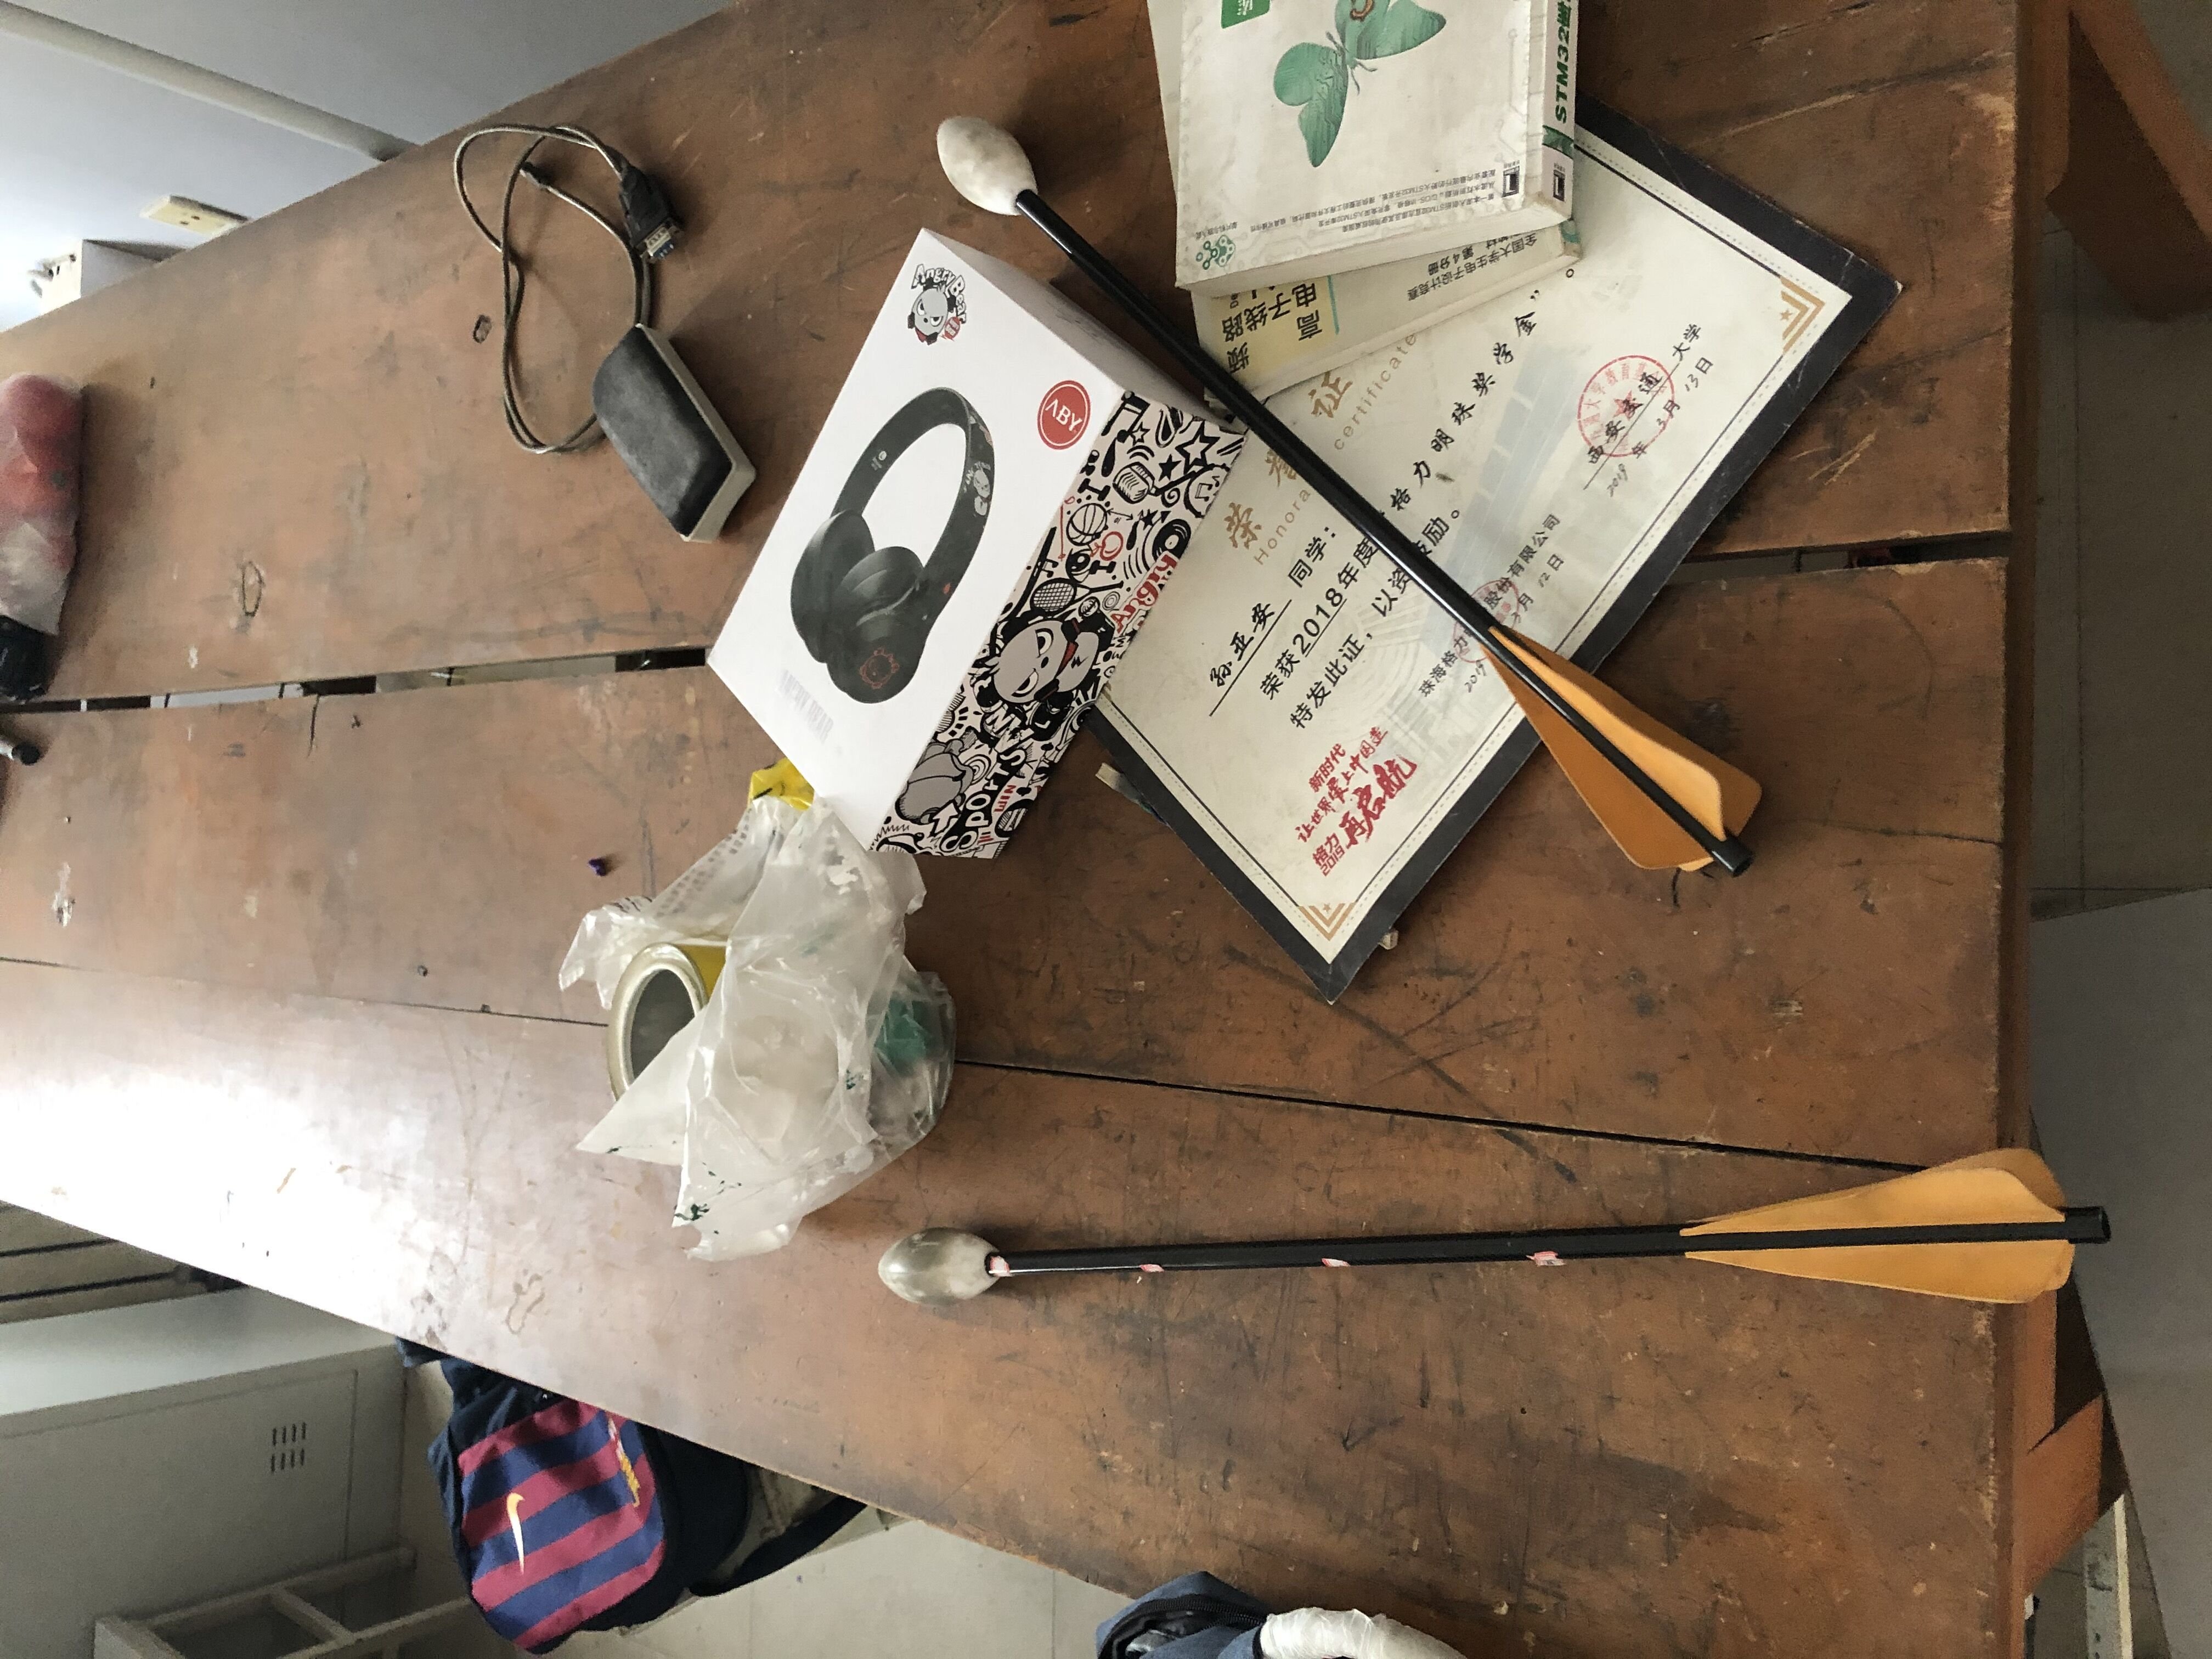arrow: (935, 110, 1766, 873), (871, 1147, 2114, 1309)
arrowFront: (876, 1223, 1003, 1307)
